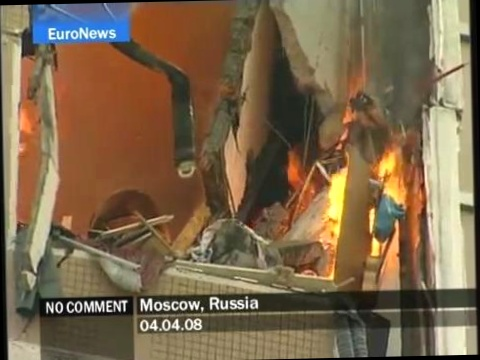fire: (318, 132, 416, 249)
